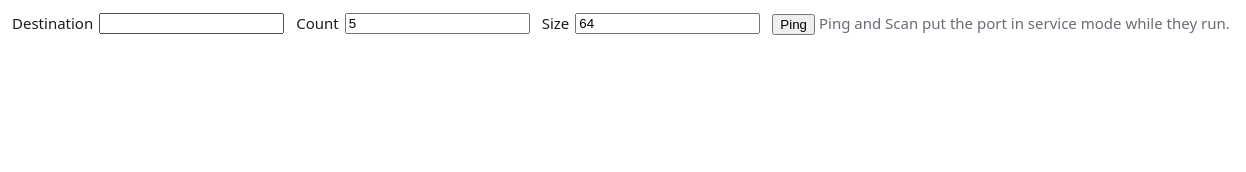
Test: PingPanel › an IPv4 ping without resolved L3 is refused before sending
Type "1.1.1.99" into the field labelled "Destination".
click(192, 23); type("1.1.1.99")  # box [99,13,284,34]
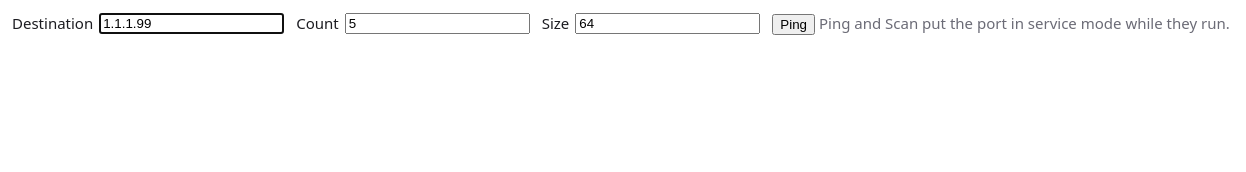
Click the button "Ping".
click(794, 24)  # box [772,14,815,35]
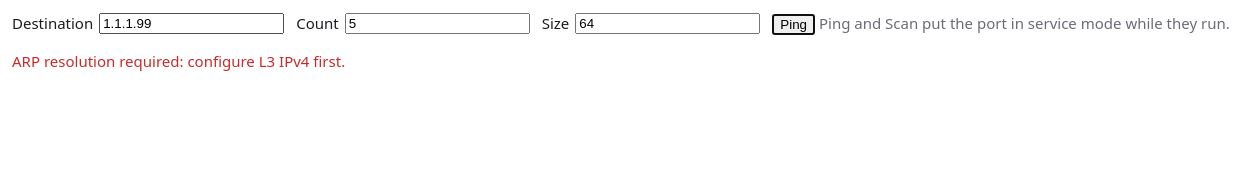
Expected: the message reads "ARP resolution required: configure L3 IPv4 first.", [12,51,345,71]
